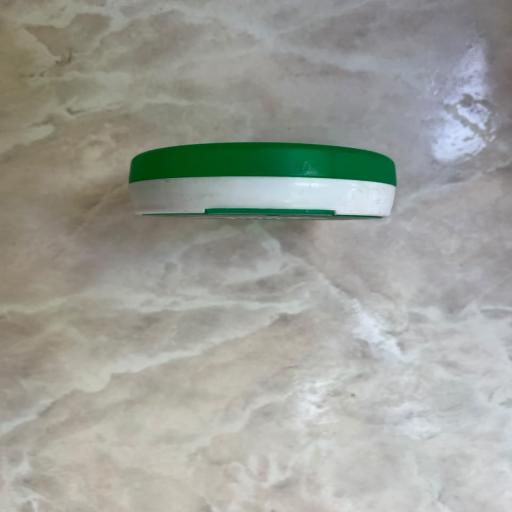HDPE: (116, 128, 437, 266)
